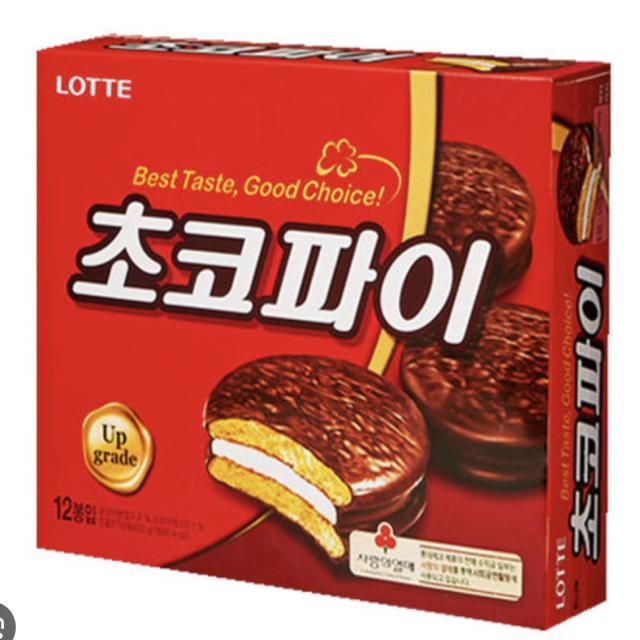biodegradable: (29, 20, 616, 629)
